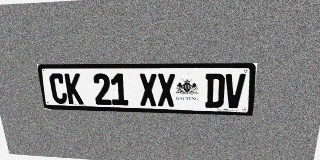1: (110, 73, 128, 105)
2: (93, 73, 112, 105)
C: (48, 73, 68, 104)
D: (205, 74, 225, 108)
K: (64, 73, 84, 104)
V: (224, 74, 246, 108)
X: (157, 73, 175, 107), (139, 73, 157, 106)
